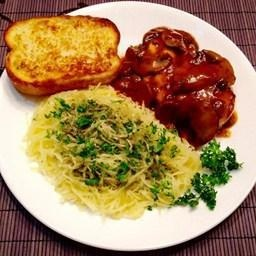background: (1, 6, 97, 87)
